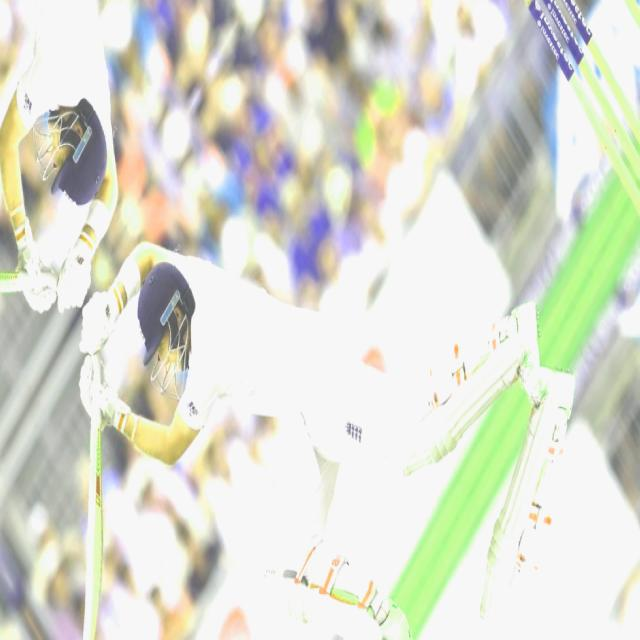toe: (80, 597, 101, 640)
